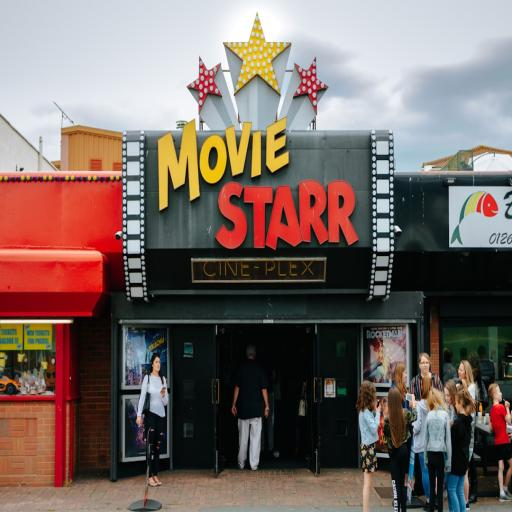face: (420, 356, 429, 375), (458, 363, 466, 379), (445, 388, 452, 406), (494, 387, 502, 401), (456, 401, 465, 413), (153, 357, 160, 371)
